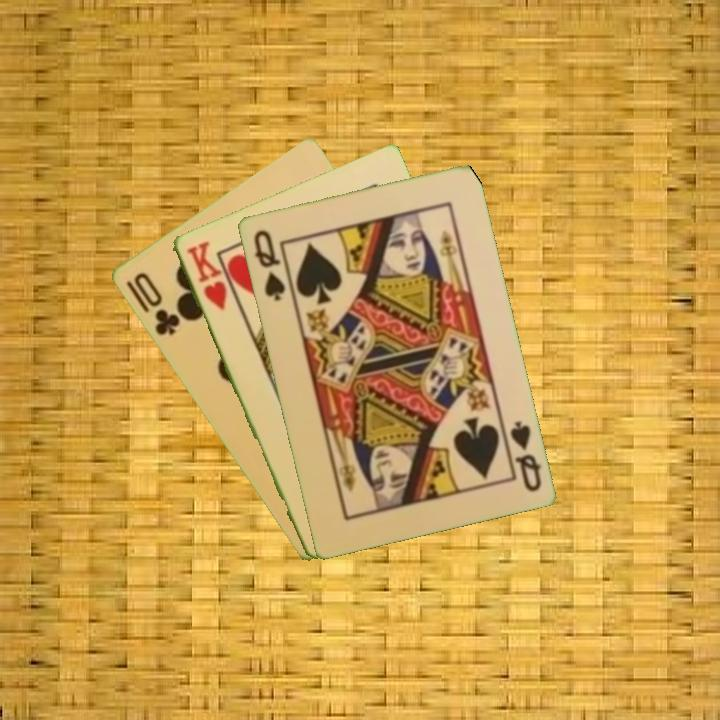10c: (129, 268, 183, 339)
Kh: (182, 237, 230, 313)
Qs: (499, 417, 544, 495), (249, 226, 288, 304)
